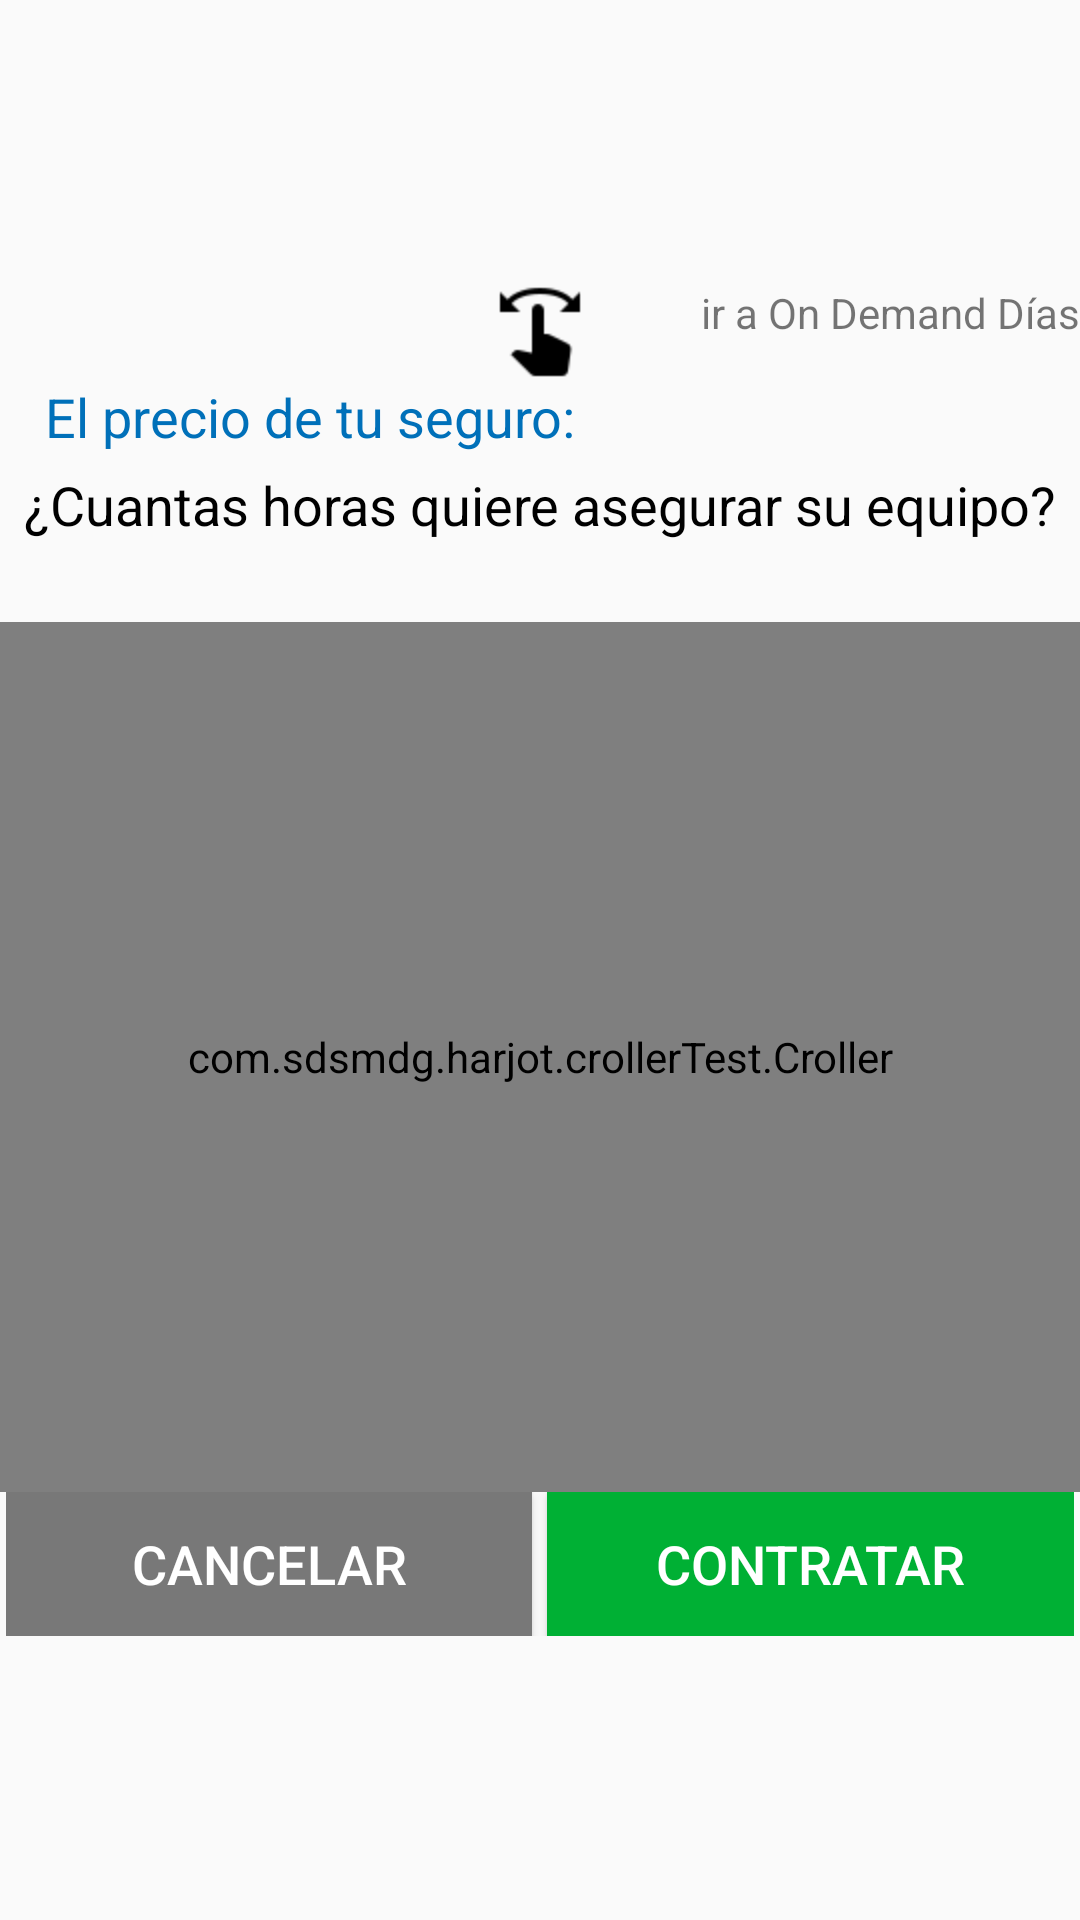

Icons on this 1080px x 1920px Android screen, each with the point to tap as (x,y):
gesture swipe: (540,332)
